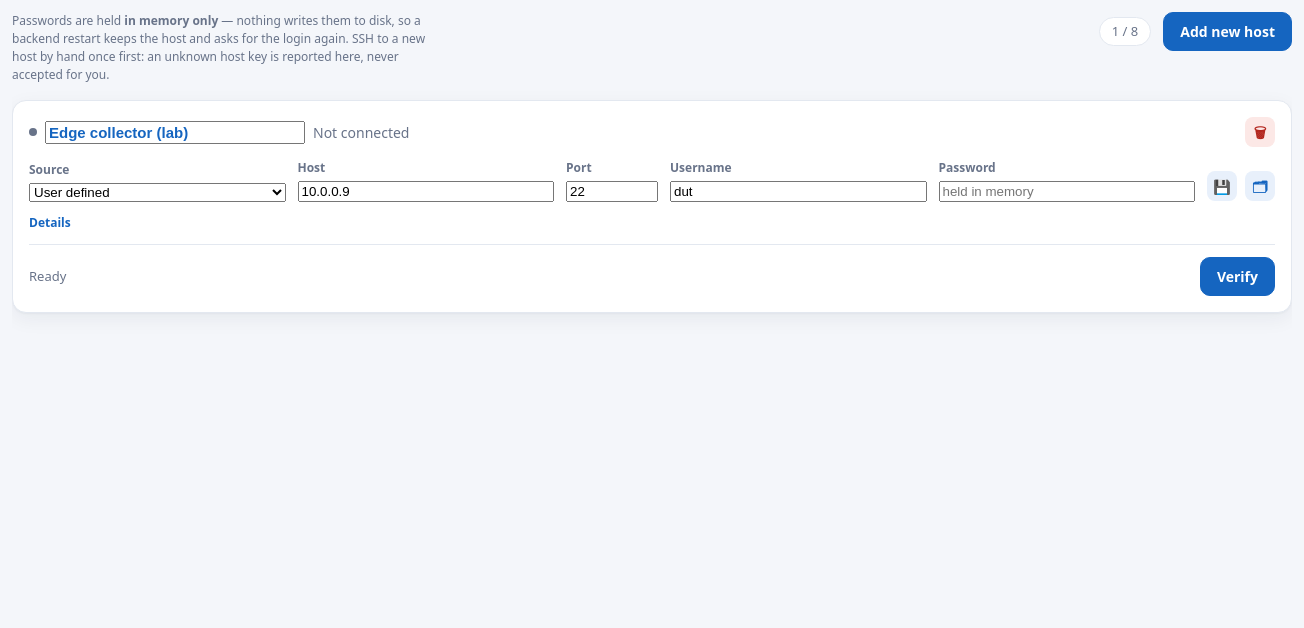
Test: the host key, where the operator already is › offers to trust a key this machine has never seen, and says what that is worth
Click the button "Details" at x=50, y=223, box [29,214,71,232]
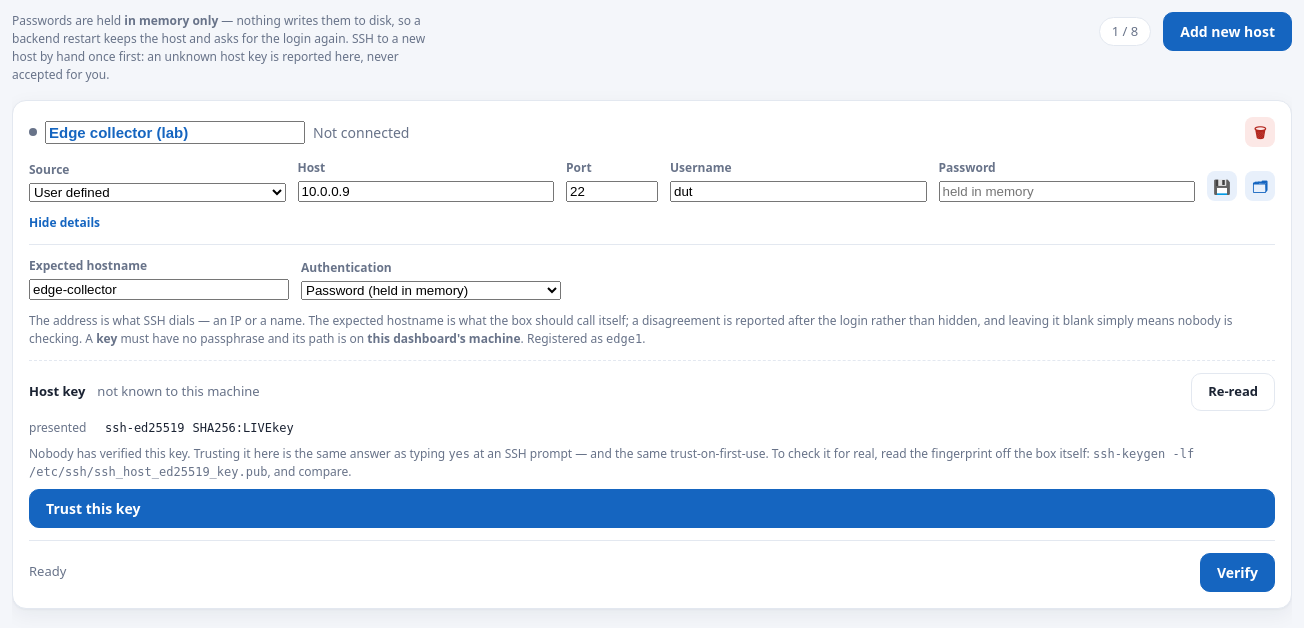
Result: the text "Host key" is shown at [29,382,85,402]
Result: the text "not known to this machine" is shown at [97,382,260,402]
Result: the text "SHA256:LIVEkey" is shown at [192,418,294,436]
